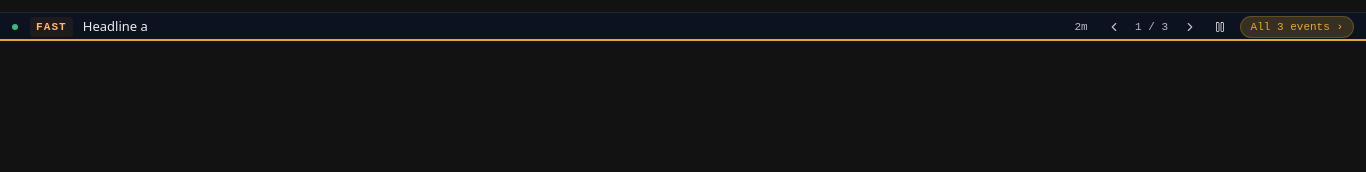
Scenario: pause and manual stepping › previous and next step by hand, with wrap-around
This screenshot has width=1366, height=172.
Click the button named "Previous event".
click(1114, 27)  # box [1100,13,1128,41]
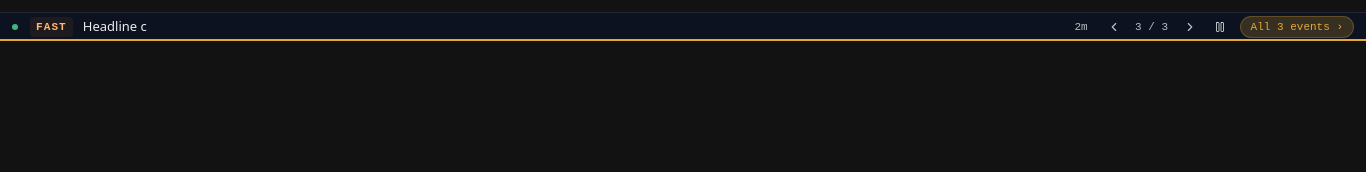
Expected: the text with test id "headline-title" reads "Headline c", [83,17,147,35]
Click the button named "Next event".
click(1190, 27)  # box [1176,13,1204,41]
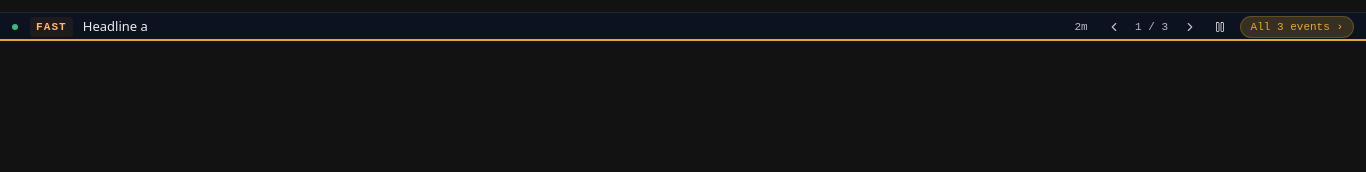
Expected: the text with test id "headline-title" reads "Headline a", [83,17,148,35]
Click the button named "Next event".
click(1190, 27)  # box [1176,13,1204,41]
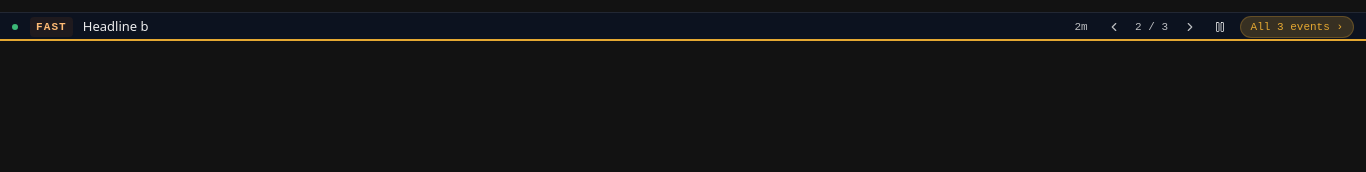
Expected: the text with test id "headline-title" reads "Headline b", [83,17,148,35]
